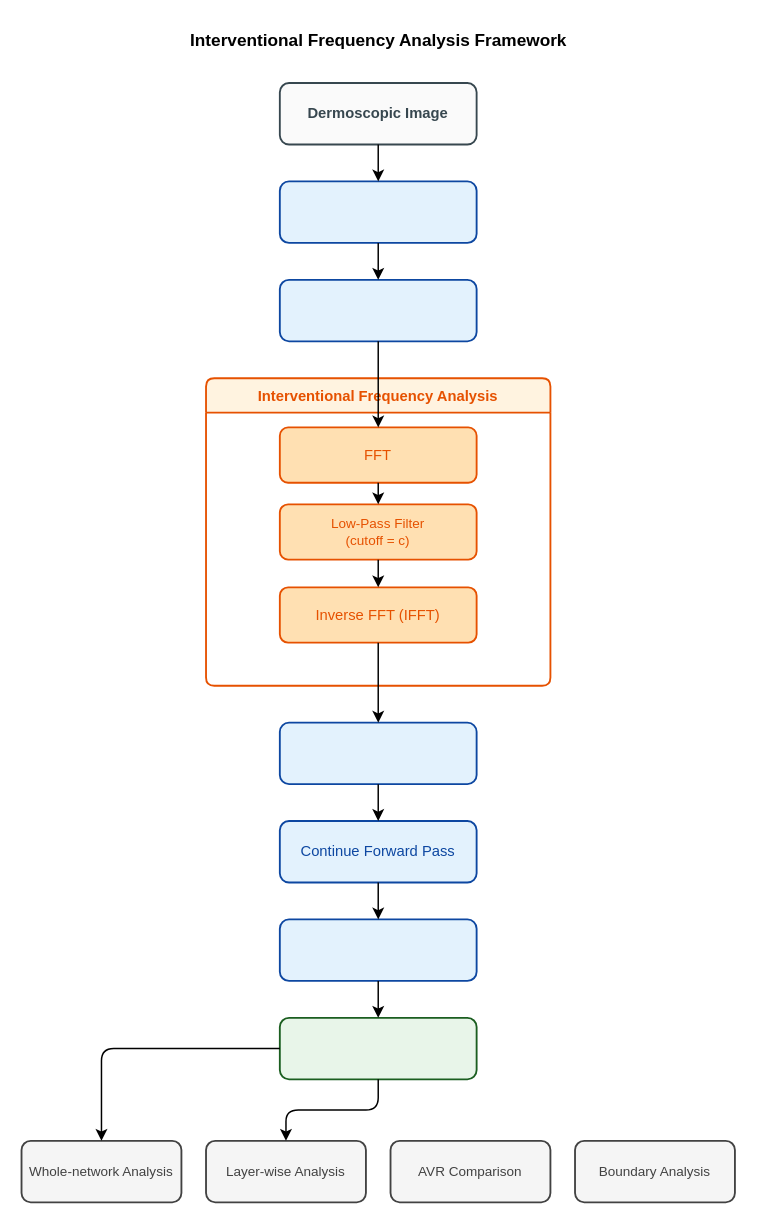
Some shapes in this 758 by 1224 pixel diagram are drawn without their labels. Here are the shapes that lost their labels. From the top down, the centre of each, then its label:
(x=377, y=211): VM-UNet
(x=377, y=310): Intermediate Feature Maps
(x=377, y=752): Modified Feature Maps
(x=377, y=949): Segmentation Prediction
(x=377, y=1048): Performance Analysis
